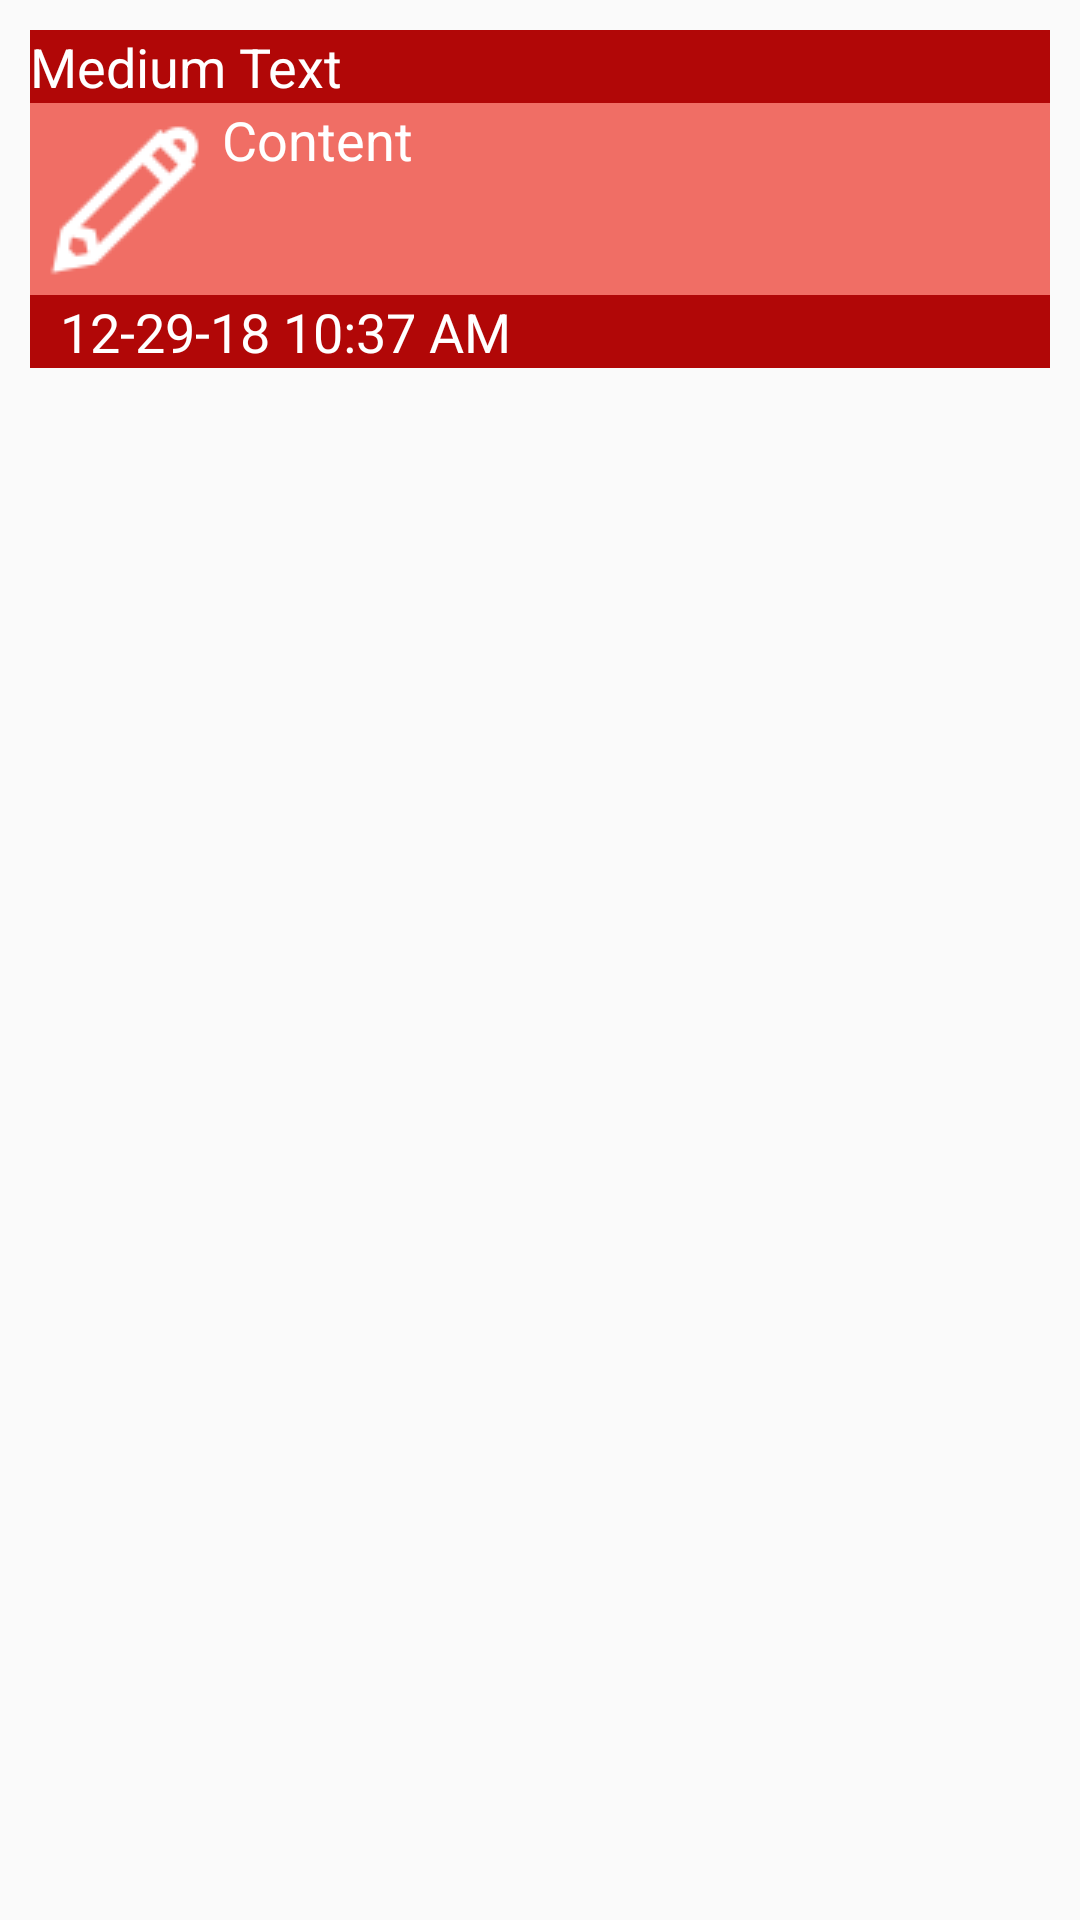

Point at icon controls on the screen. Image size 1080*1920, points as point (x, y).
pencil: point (126, 199)
